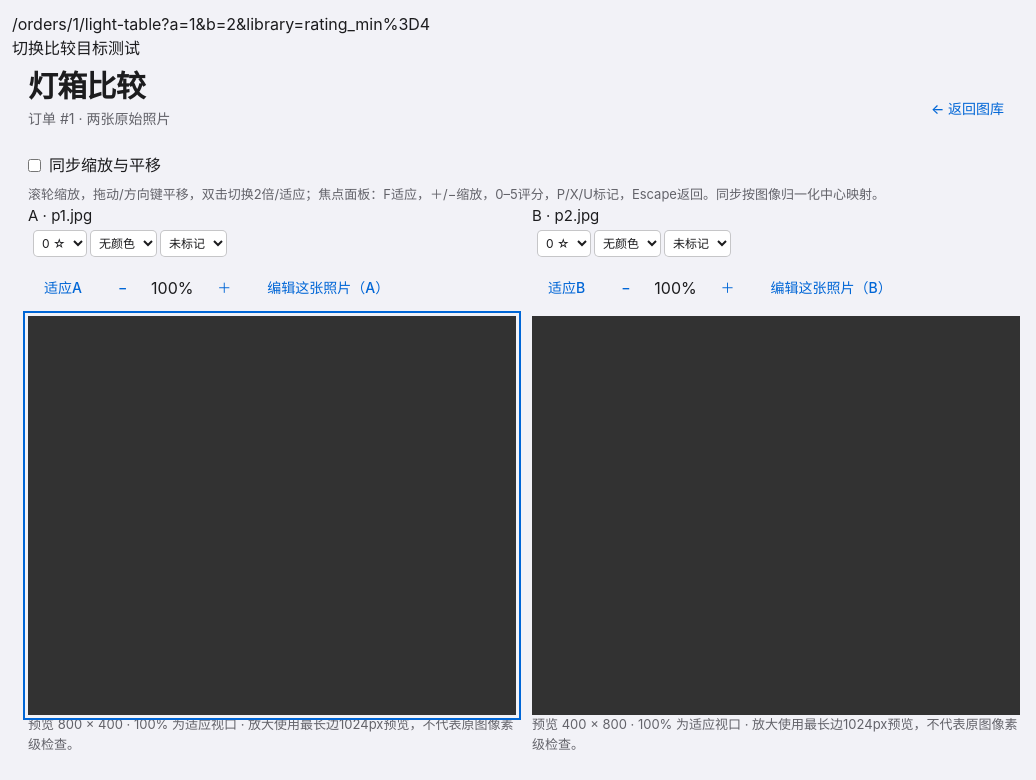
Scenario: rates only the focused panel, suppresses form shortcuts, and preserves context into editor
This screenshot has width=1036, height=780.
Expected: the picture named "B原始照片预览" is shown, [732, 316, 932, 715]
Press 5 in the element named "B照片视口", box [532, 316, 1020, 715]
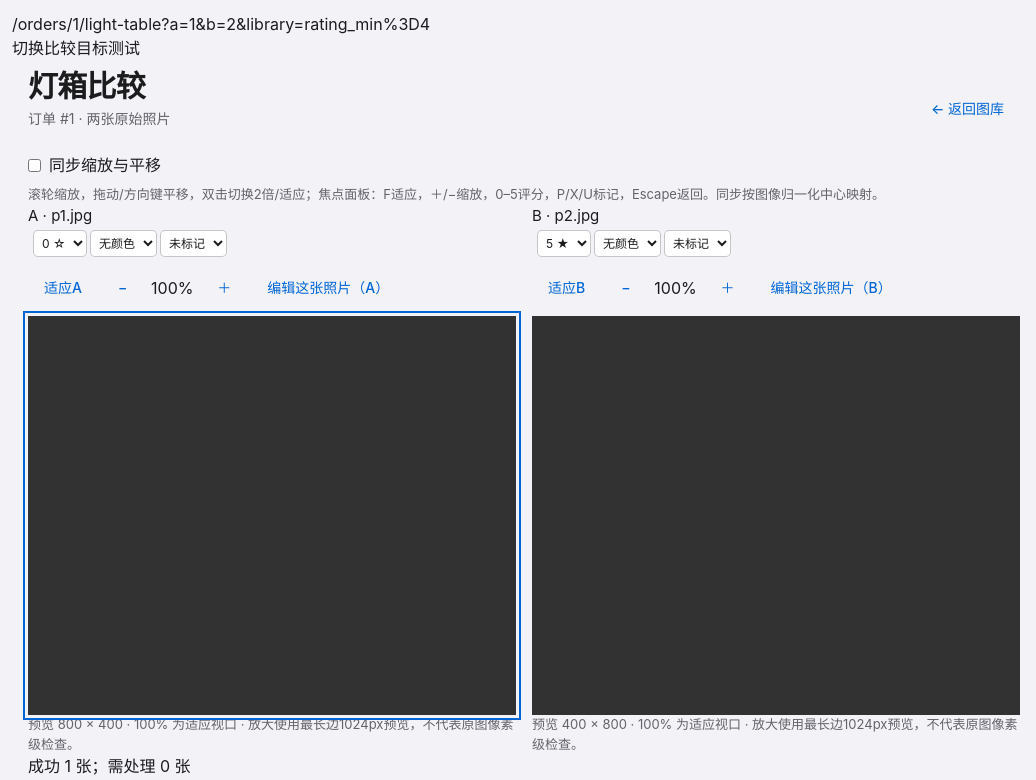
Now the dropdown named "B p2.jpg评分" shows "5 ★"
Press 3 in the dropdown named "B p2.jpg评分", box [537, 230, 591, 257]
Click the button "编辑这张照片（B）".
click(831, 288)  # box [755, 268, 908, 308]
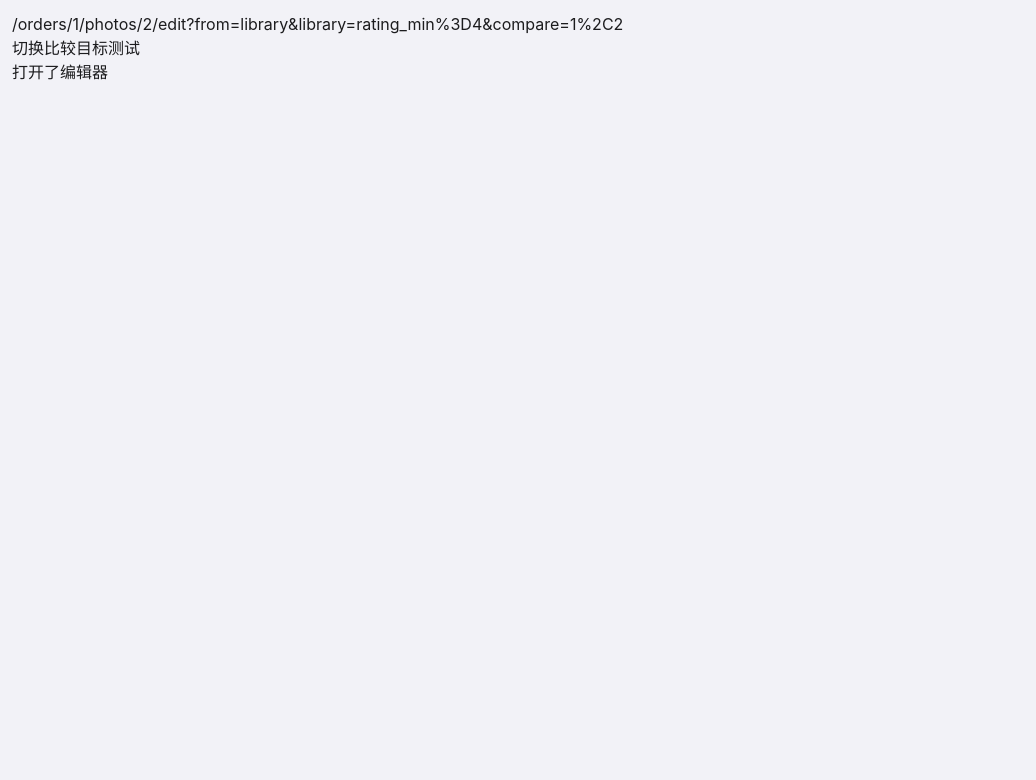
Now the text with test id "location" shows "from=library&library=rating_min%3D4&compare=1%2C2", box [12, 14, 623, 34]
